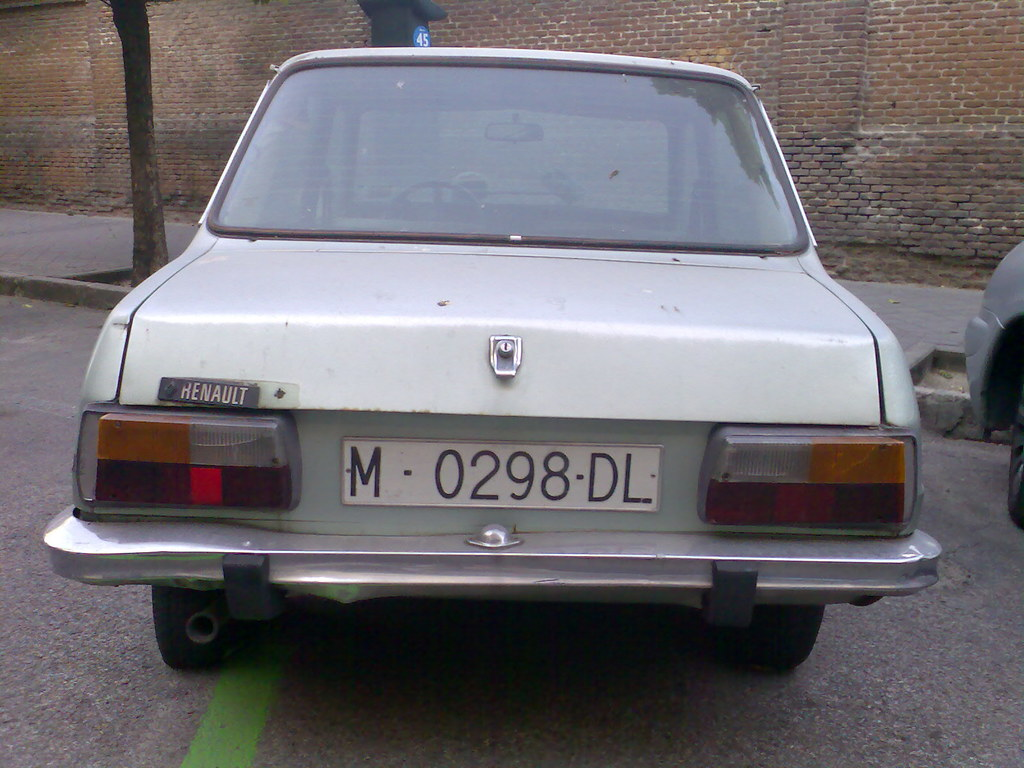Car: (40, 44, 946, 669), (962, 238, 1023, 539)
